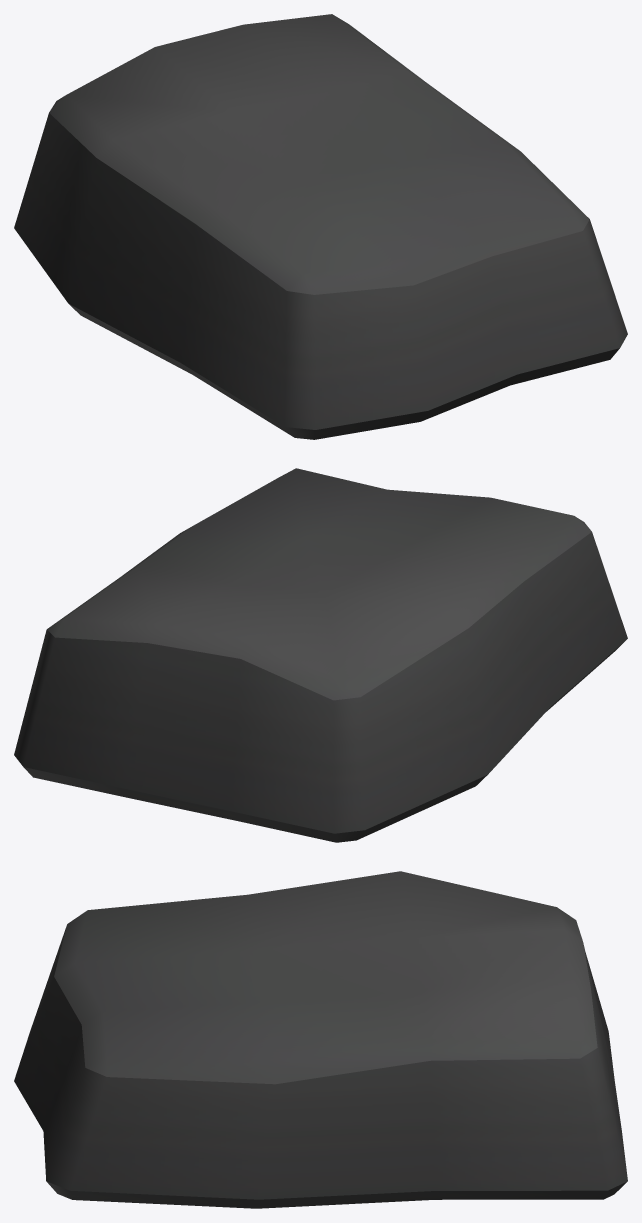
Rendered from StoneBlock_2_3.obj.
3 renders of one model, top to bottom at view 1: azimuth 30°, elevation 25°; view 2: azimuth 150°, elevation 25°; view 3: azimuth 270°, elevation 25°, orthographic. The views are drawn at different scales.
Parts seen in each view (by area): view 1: StoneBlock_2_3; view 2: StoneBlock_2_3; view 3: StoneBlock_2_3.
Boxes of the visible parts, bbox=[...] form: StoneBlock_2_3: bbox=[14, 14, 627, 439]; StoneBlock_2_3: bbox=[14, 468, 627, 842]; StoneBlock_2_3: bbox=[14, 871, 627, 1208].
Bounding box in the file's own units: 0.6038 × 0.2442 × 0.8012.
